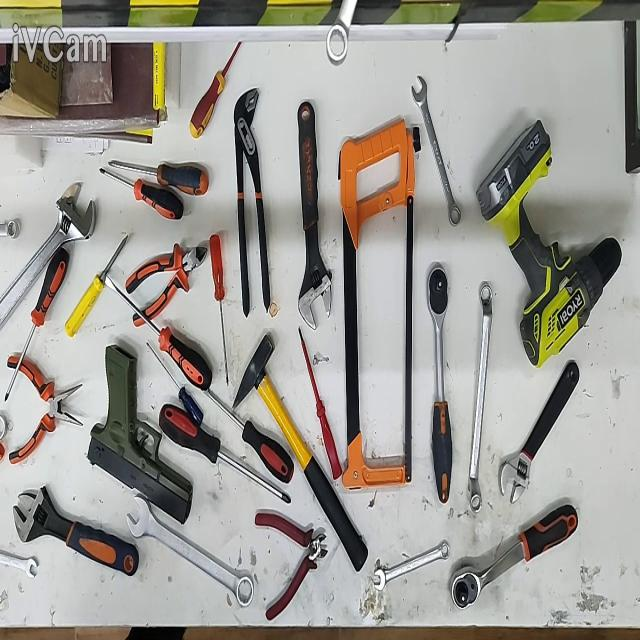Screwdriver: (159, 404, 290, 506), (105, 276, 213, 391), (4, 246, 69, 402), (199, 382, 294, 483), (299, 327, 344, 480), (64, 236, 128, 337), (190, 41, 242, 138), (146, 340, 202, 427), (98, 168, 184, 221), (108, 162, 209, 195), (209, 234, 229, 389)
